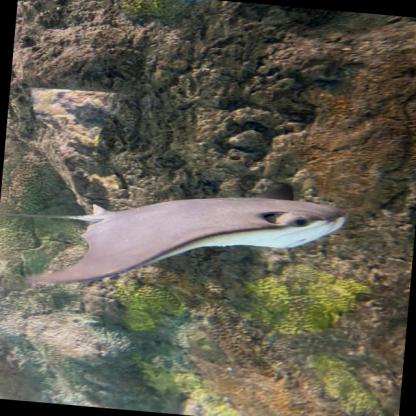stingray: (32, 177, 348, 312)
